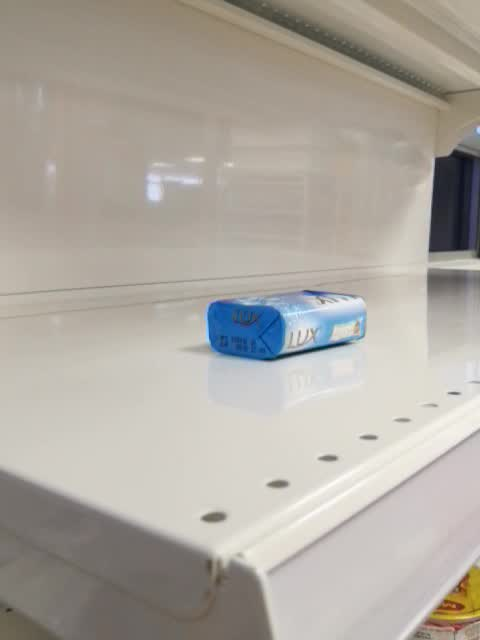soap: (205, 288, 369, 362)
